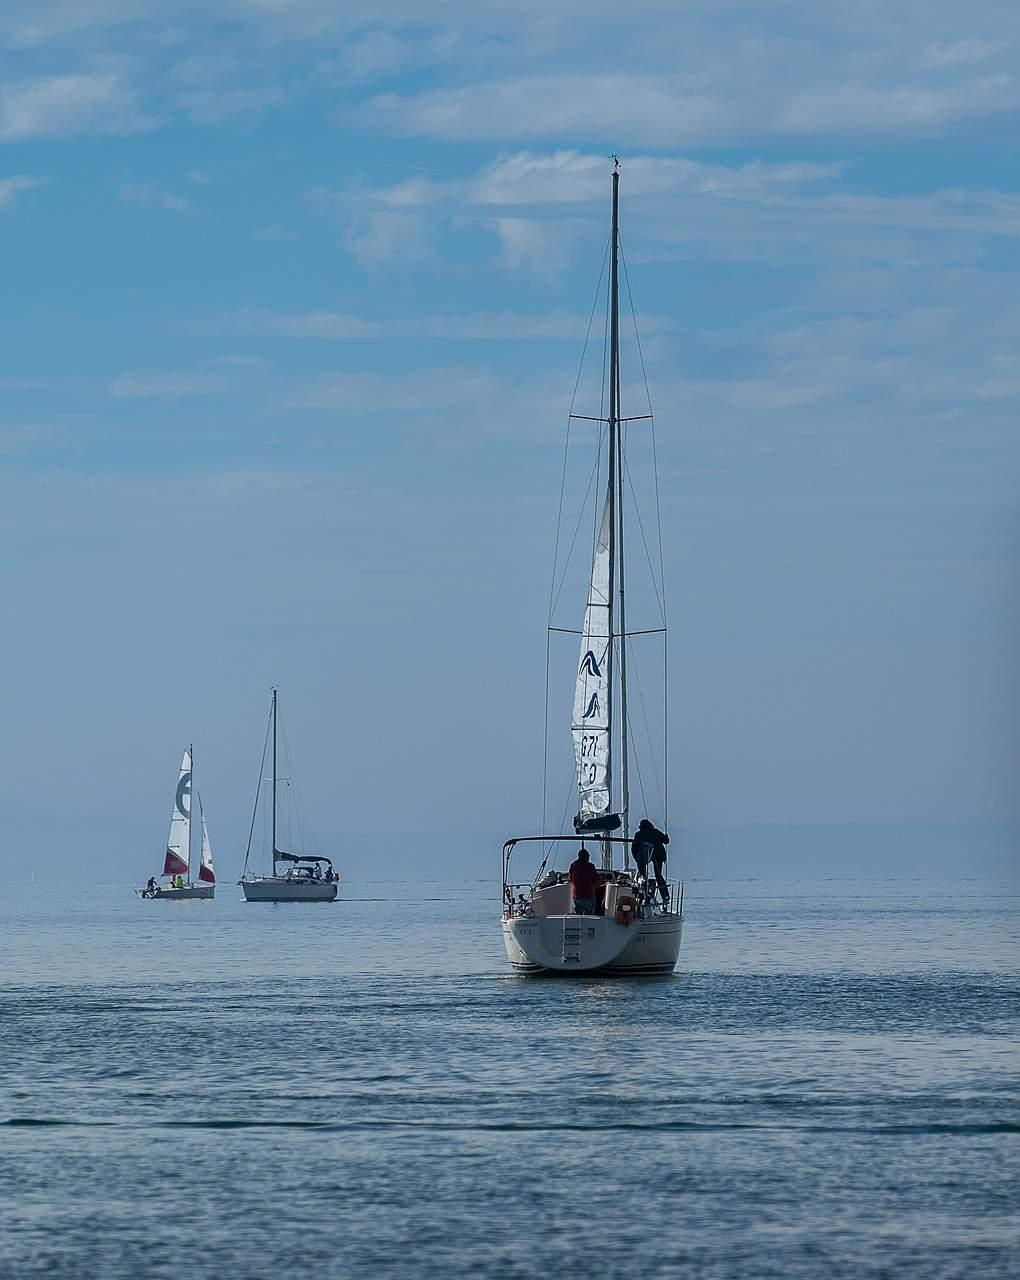Ship: (498, 157, 683, 985), (240, 689, 341, 904), (137, 742, 218, 901)
